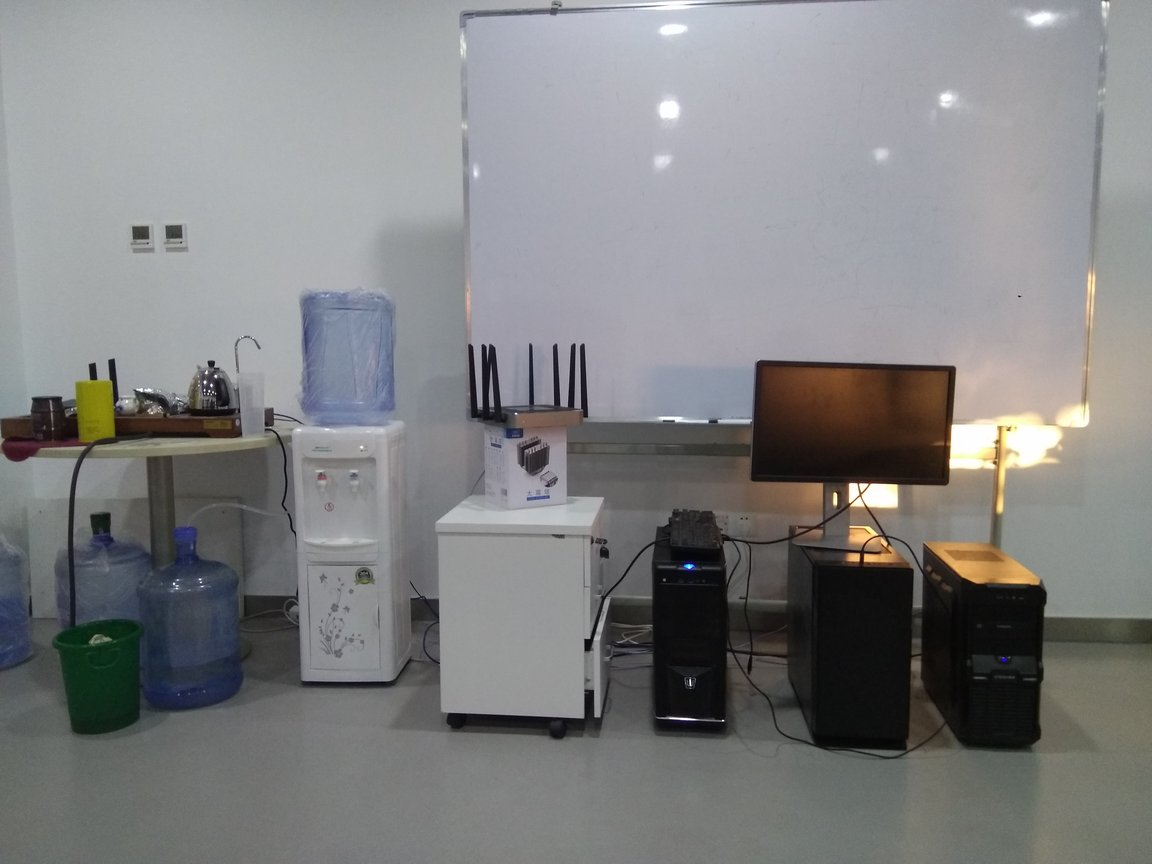computer: (785, 517, 919, 761), (921, 540, 1048, 756), (650, 523, 735, 737)
drawer chest: (433, 492, 617, 751)
monitor: (750, 359, 963, 560)
scuttlebutt: (141, 528, 245, 712), (59, 513, 156, 670), (297, 286, 404, 425), (1, 533, 44, 678)
water dispenser: (285, 418, 413, 691)
